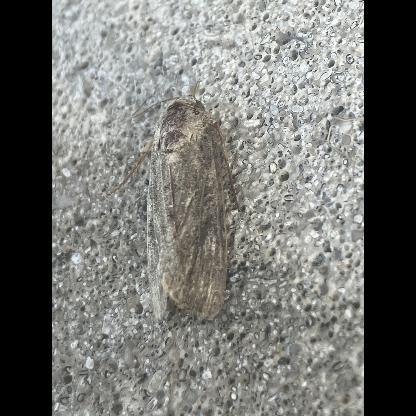Fall Armyworm Moth: (106, 78, 244, 326)
